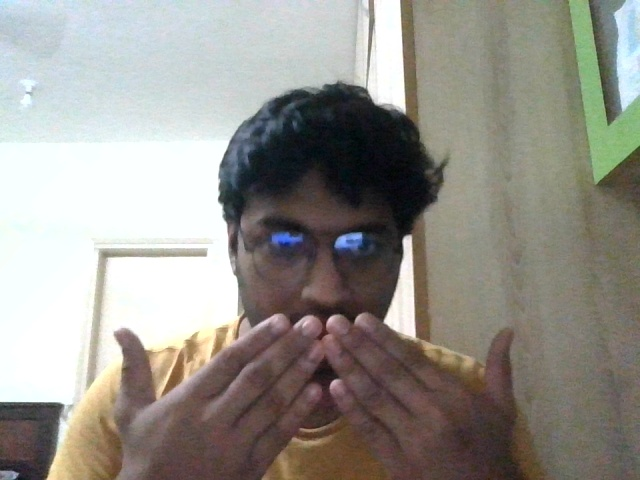thankyou: (113, 313, 514, 480)
